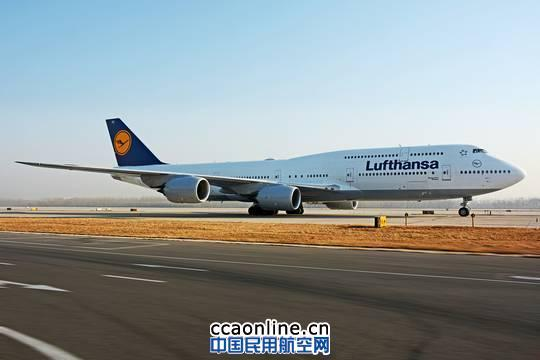airplane: (10, 116, 529, 215)
